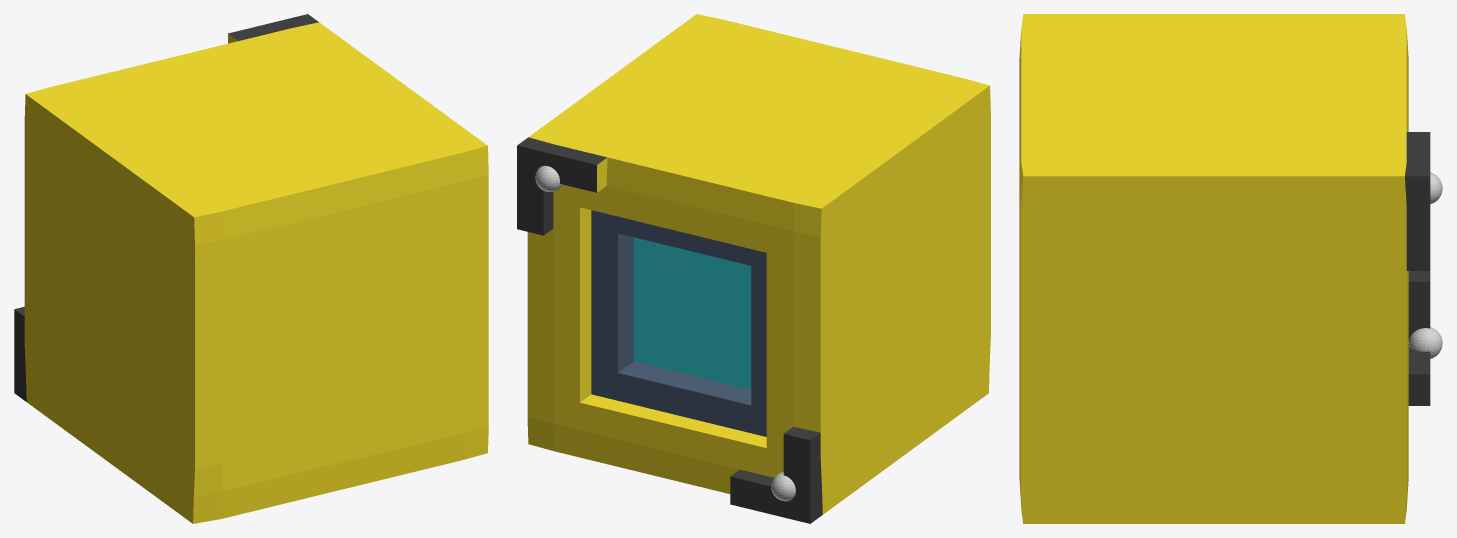
Rendered from Box_One.fbx.
3 renders of one model, left to right at view 1: azimuth 30°, elevation 25°; view 2: azimuth 150°, elevation 25°; view 3: azimuth 270°, elevation 25°, orthographic. The views are drawn at different scales.
Visible parts, largest first — view 1: Box1; view 2: Box1; view 3: Box1.
Part boxes in pixels (x1,y1,x2,y2): Box1: (14, 14, 488, 523); Box1: (517, 14, 990, 523); Box1: (1019, 14, 1442, 523).
Bounding box in the file's own units: 47214 × 47214 × 52077.
